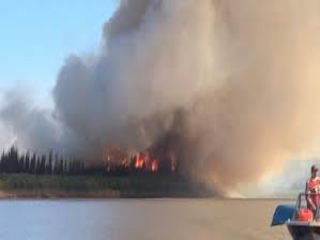fire: (109, 147, 166, 174)
smoke: (37, 13, 308, 150)
